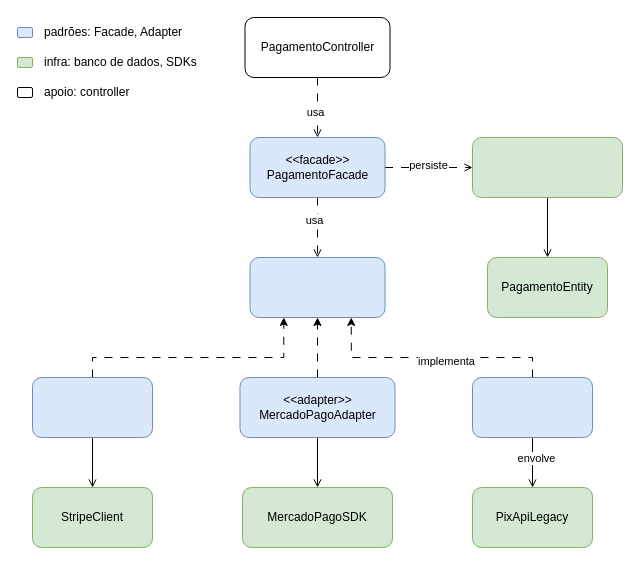
The diagram is 640 pixels wide and 565 high, and some of its shapes have lost their labels. Each missing label, with the centre of its shape:
<<adapter>> PixAdapter: (x=532, y=407)
<<adapter>> StripeAdapter: (x=92, y=407)
<<interface>> GatewayPagamento: (x=317, y=287)
<<interface>> PagamentoRepository: (x=547, y=167)
